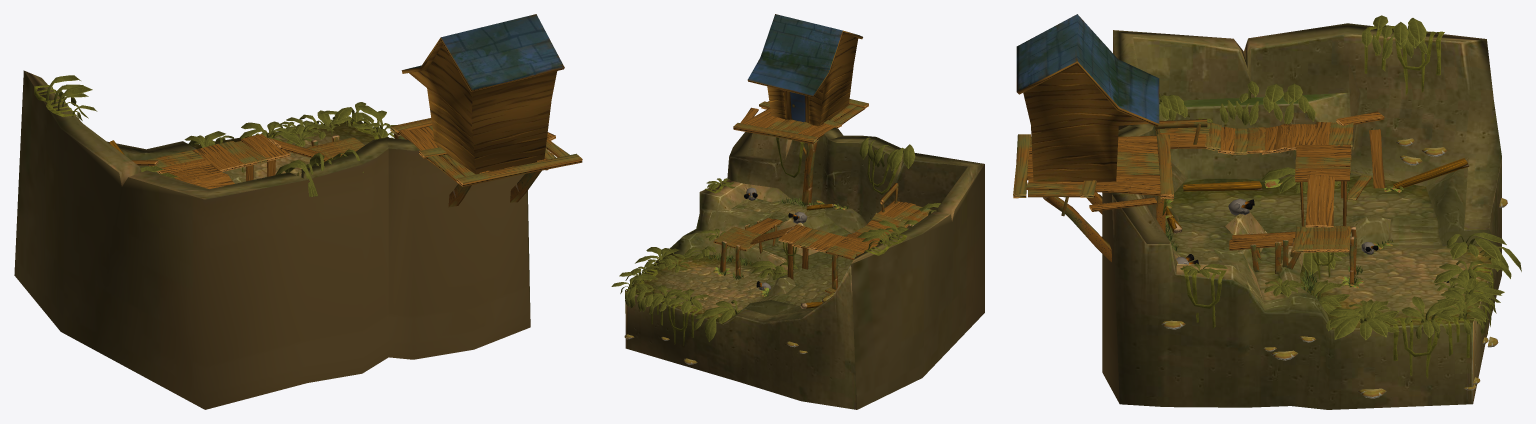
Rendered from preGameStage.fbx.
3 views of the same model, side by side, from view 1: azimuth 30°, elevation 25°; view 2: azimuth 150°, elevation 25°; view 3: azimuth 270°, elevation 25° (orthographic). The views are drawn at different scales.
Visible parts, largest first — view 1: Sphere003_Material #41_0; view 2: Sphere003_Material #41_0; view 3: Sphere003_Material #41_0.
Part boxes in pixels (x1=…): Sphere003_Material #41_0: x1=14, y1=14, x2=582, y2=409; Sphere003_Material #41_0: x1=611, y1=14, x2=984, y2=409; Sphere003_Material #41_0: x1=1013, y1=14, x2=1521, y2=409.
Size of the model in its own units: 117 by 94.87 by 130.
